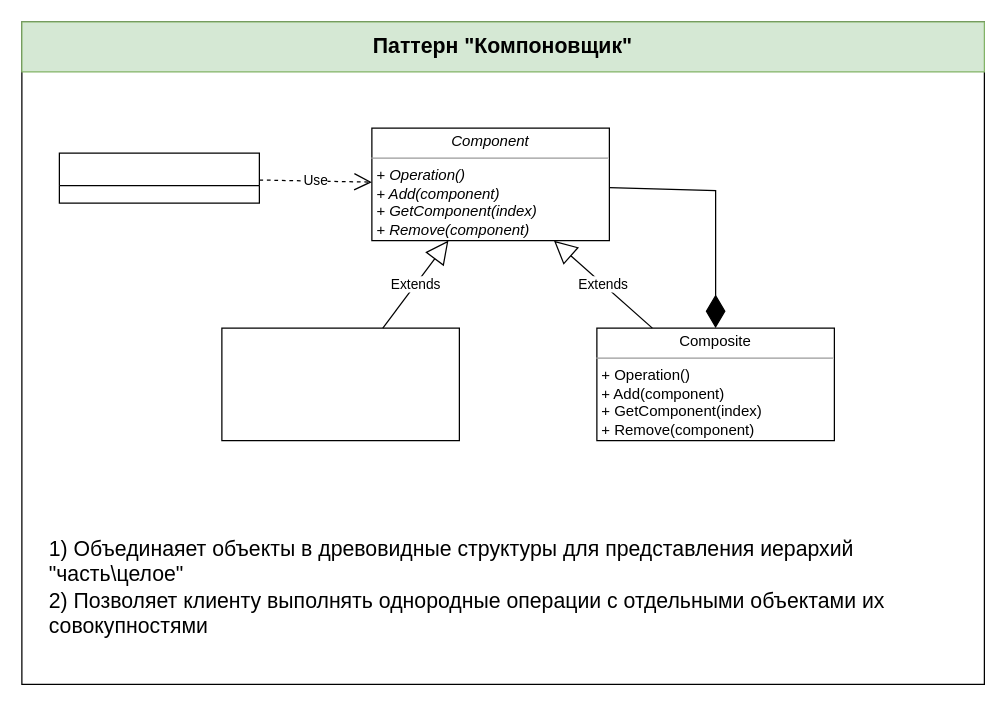
Some shapes in this 1006 by 706 pixel diagram are drawn without their labels. Each missing label, with the centre of its shape:
"Client" belongs at pixel 158 177.
"Leaf + Operation() + Add(component) + GetComponent(index) + Remove(component)" belongs at pixel 340 384.
